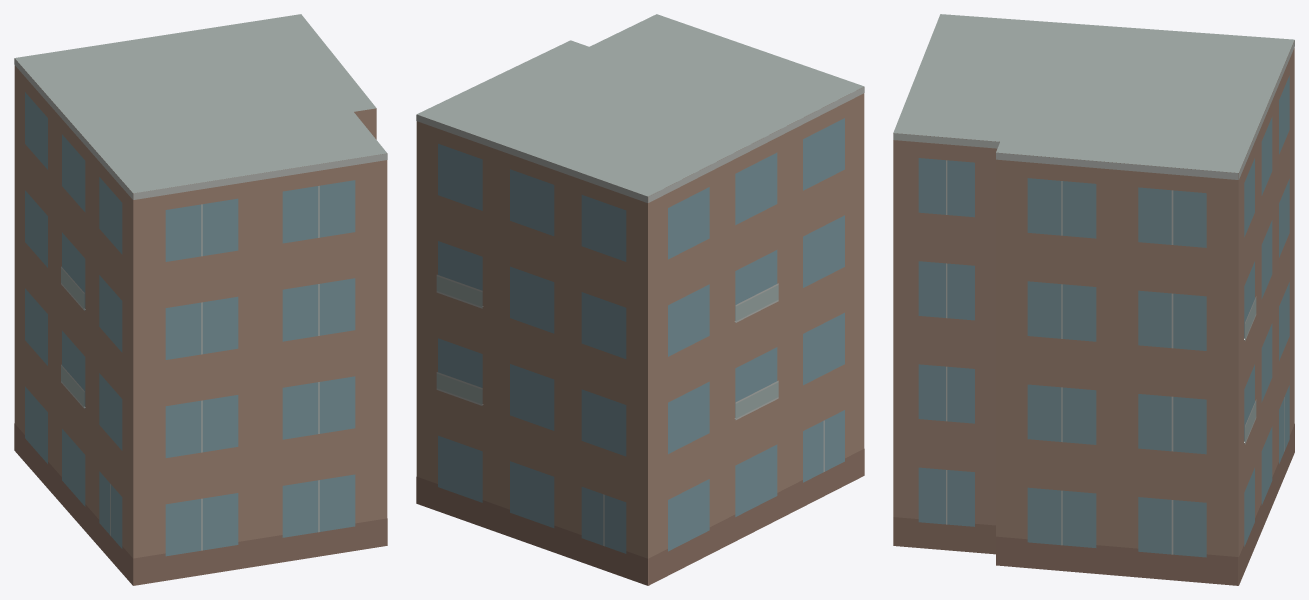
File: survey-upis-32531631.glb
3 views of the same model, side by side, from view 1: azimuth 30°, elevation 25°; view 2: azimuth 150°, elevation 25°; view 3: azimuth 270°, elevation 25° (orthographic). The views are drawn at different scales.
Visible parts, largest first — view 1: survey-upis-32531631.tmp; view 2: survey-upis-32531631.tmp; view 3: survey-upis-32531631.tmp.
Part boxes in pixels (x1=…): survey-upis-32531631.tmp: x1=14, y1=14, x2=387, y2=585; survey-upis-32531631.tmp: x1=416, y1=14, x2=864, y2=585; survey-upis-32531631.tmp: x1=893, y1=14, x2=1294, y2=585.
Size of the model in its own units: 11.83 by 14.3 by 12.62.
